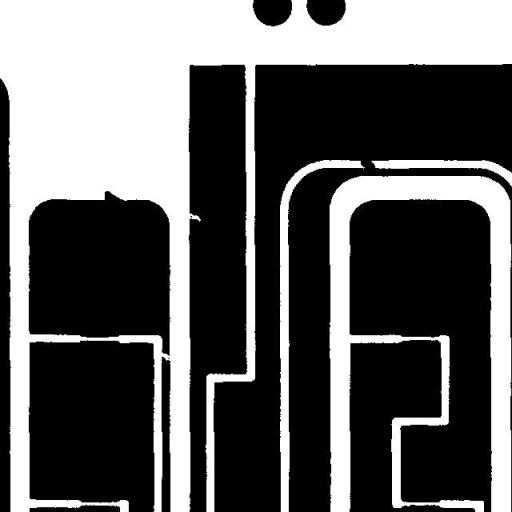mousebite: (178, 206, 208, 228)
open: (150, 344, 178, 368)
short: (353, 150, 382, 181)
spur: (97, 184, 130, 210)
